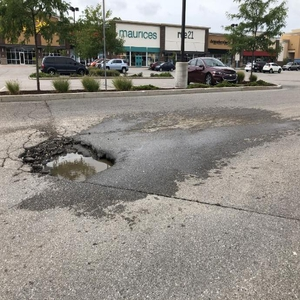pothole: (20, 135, 117, 184)
